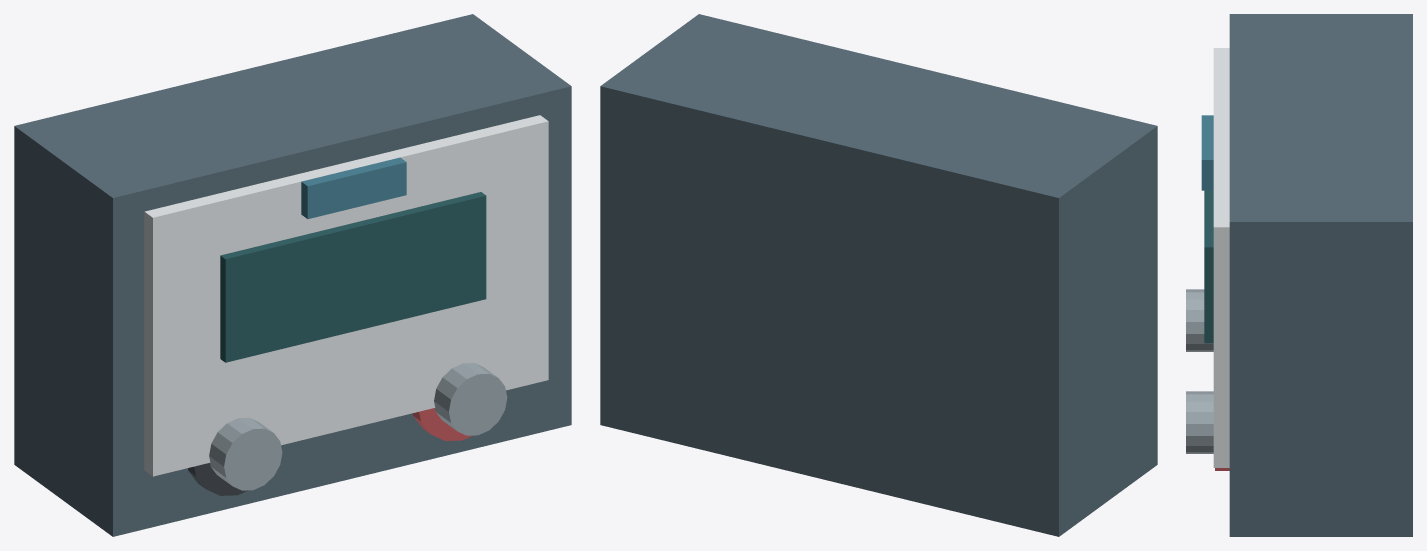
The model's file is voltmeter_lod2.glb.
3 views of the same model, side by side, from view 1: azimuth 30°, elevation 25°; view 2: azimuth 150°, elevation 25°; view 3: azimuth 270°, elevation 25° (orthographic). The views are drawn at different scales.
Visible parts, largest first — view 1: VOL_BODY_MAT_METAL_DARK, VOL_FACE_MAT_WHITE, VOL_SCREEN_MAT_EMISSIVE_SCREEN, VOL_LABEL_MAT_POLYMER_BLUE, VOL_PORT_COM_MAT_METAL_BRUSHED, VOL_PORT_INPUT_MAT_METAL_BRUSHED, VOL_PORT_COM_INS_MAT_BLACK, VOL_PORT_INPUT_INS_MAT_RED; view 2: VOL_BODY_MAT_METAL_DARK; view 3: VOL_BODY_MAT_METAL_DARK, VOL_FACE_MAT_WHITE, VOL_PORT_INPUT_MAT_METAL_BRUSHED, VOL_SCREEN_MAT_EMISSIVE_SCREEN, VOL_PORT_COM_MAT_METAL_BRUSHED, VOL_LABEL_MAT_POLYMER_BLUE.
Part boxes in pixels (x1=…): VOL_BODY_MAT_METAL_DARK: x1=14, y1=14, x2=571, y2=536; VOL_FACE_MAT_WHITE: x1=144, y1=115, x2=548, y2=476; VOL_SCREEN_MAT_EMISSIVE_SCREEN: x1=220, y1=192, x2=486, y2=362; VOL_LABEL_MAT_POLYMER_BLUE: x1=301, y1=157, x2=406, y2=218; VOL_PORT_COM_MAT_METAL_BRUSHED: x1=209, y1=417, x2=282, y2=490; VOL_PORT_INPUT_MAT_METAL_BRUSHED: x1=434, y1=363, x2=507, y2=435; VOL_PORT_COM_INS_MAT_BLACK: x1=188, y1=463, x2=247, y2=495; VOL_PORT_INPUT_INS_MAT_RED: x1=412, y1=408, x2=472, y2=440; VOL_BODY_MAT_METAL_DARK: x1=600, y1=14, x2=1157, y2=536; VOL_BODY_MAT_METAL_DARK: x1=1229, y1=14, x2=1412, y2=536; VOL_FACE_MAT_WHITE: x1=1213, y1=48, x2=1229, y2=467; VOL_PORT_INPUT_MAT_METAL_BRUSHED: x1=1186, y1=391, x2=1213, y2=453; VOL_SCREEN_MAT_EMISSIVE_SCREEN: x1=1204, y1=190, x2=1213, y2=343; VOL_PORT_COM_MAT_METAL_BRUSHED: x1=1186, y1=289, x2=1213, y2=351; VOL_LABEL_MAT_POLYMER_BLUE: x1=1201, y1=115, x2=1213, y2=190.
Size of the model in its own units: 1.02 by 0.72 by 0.47.
